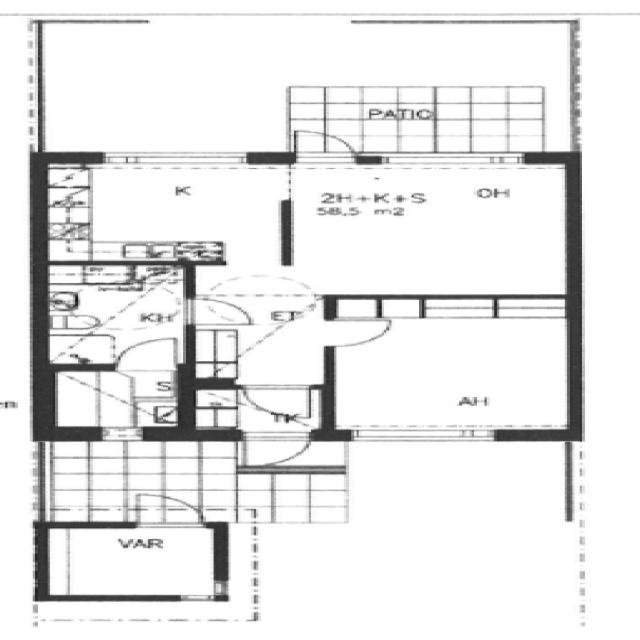door: (122, 491, 214, 531), (284, 125, 362, 167), (176, 295, 266, 331), (232, 429, 313, 468), (310, 314, 400, 349), (109, 336, 186, 374), (237, 383, 314, 419)
window: (83, 145, 262, 170), (364, 148, 537, 172), (334, 424, 505, 448), (171, 588, 231, 606), (95, 425, 148, 443), (201, 577, 238, 601)
zone: (290, 429, 588, 640), (284, 157, 577, 298), (327, 292, 577, 437), (41, 158, 290, 262), (40, 264, 192, 366), (35, 523, 222, 600), (45, 369, 183, 432)
